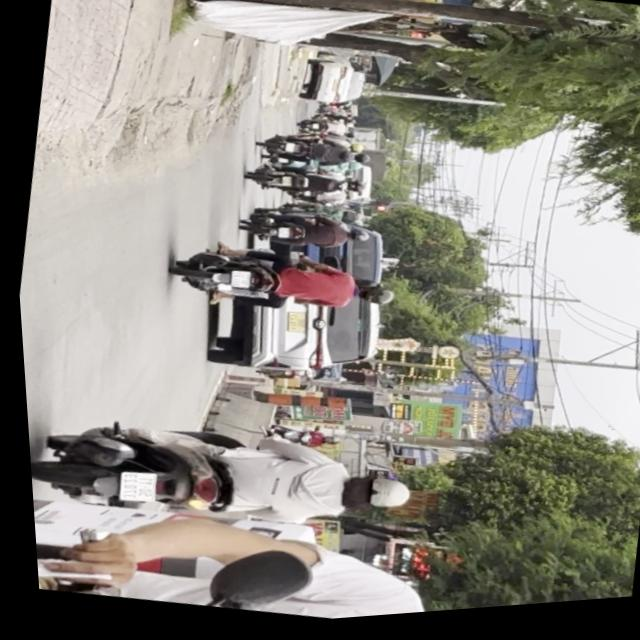helmet: (334, 471, 407, 523), (351, 286, 393, 314)
licenseplate: (21, 387, 419, 570), (161, 227, 399, 341)
nohelmet: (110, 469, 153, 507), (226, 272, 248, 292)
